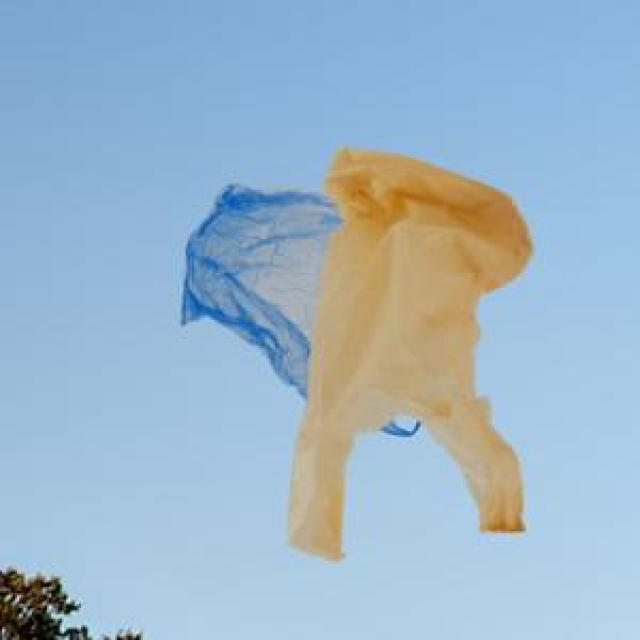plastic: (150, 127, 572, 575)
